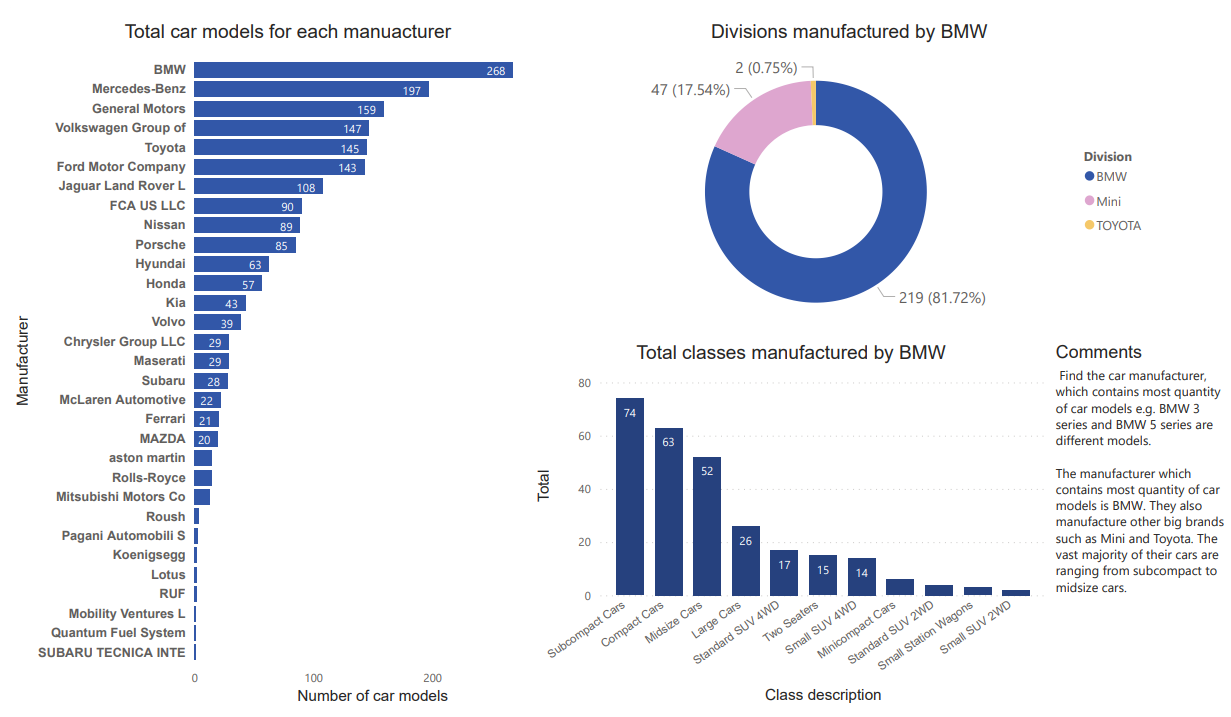

The page's visual inventory and layout, read from the dashboard file:
{"tool":"powerbi","page":{"name":"Page 1","canvas":[1280,720],"ordinal":0},"visuals":[{"type":"donutChart","title":"Divisions manufactured by BMW","fields":{"Category":["Sheet1.Division"],"Y":["Count(Sheet1.Carline)"],"Series":["Sheet1.Division"]},"box":[557.2,1.9,640,335.1],"z":0},{"type":"barChart","title":"Total car models for each manuacturer","fields":{"Category":["Sheet1.Mfr_Name"],"Y":["Count(Sheet1.Carline)"]},"box":[0,1.9,579.8,719.1],"z":1000},{"type":"clusteredColumnChart","title":"Total classes manufactured by BMW","fields":{"Y":["Count(Sheet1.Carline)"],"Category":["Sheet1.Carline_Class_Desc"]},"box":[545,337,543,382],"z":2000},{"type":"textbox","title":"Comments","box":[1088,337,192,383],"z":3000}]}

Visuals, with their boxes on the page's 1280x720 design canvas (x1, y1, x2, y2). These are canvas units, not pixel positions in the 1231x717 screenshot, which may show the page scaled, cropped or inside an application window:
"Divisions manufactured by BMW" donutChart: 557/2/1197/337
"Total car models for each manuacturer" barChart: 0/2/580/721
"Total classes manufactured by BMW" clusteredColumnChart: 545/337/1088/719
"Comments" textbox: 1088/337/1280/720
